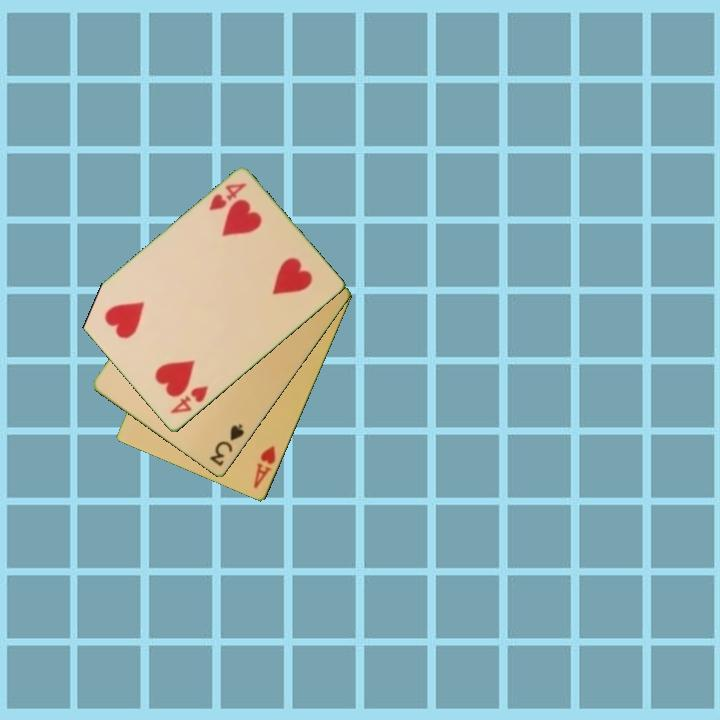3s: (206, 420, 247, 470)
4h: (167, 382, 211, 417), (205, 179, 249, 214)
Ah: (250, 442, 279, 492)
